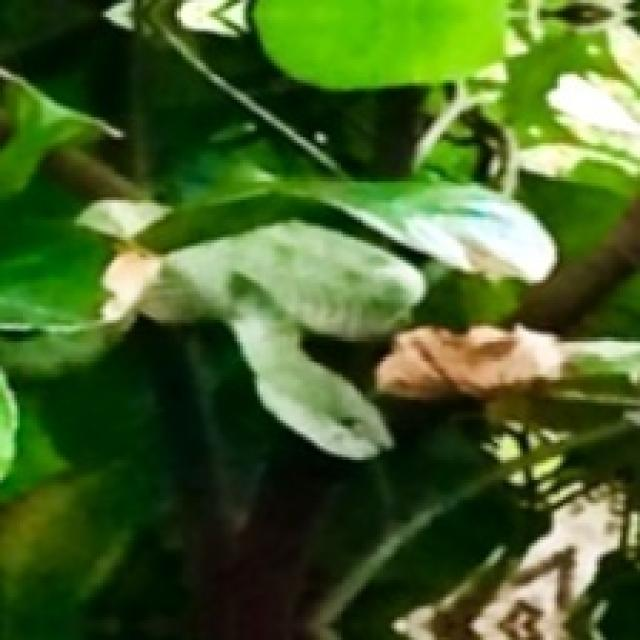north ph temple pitviper: (79, 200, 425, 459)
